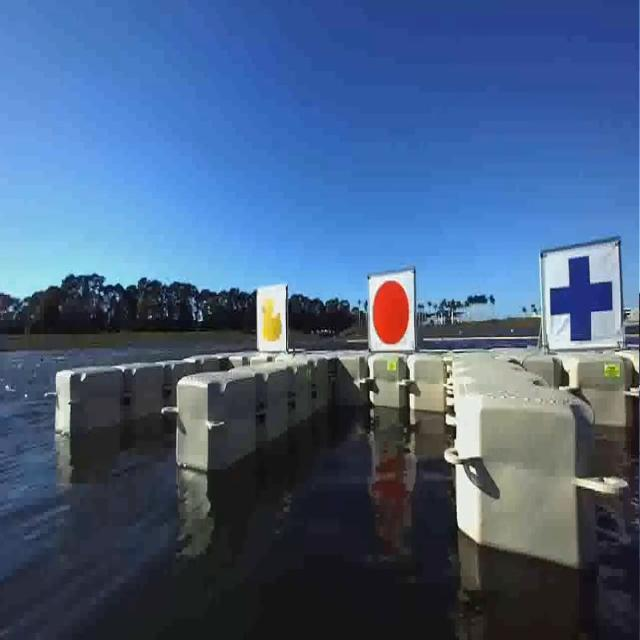blue-cross: (535, 239, 623, 348)
red-dot: (371, 274, 417, 355)
yellow-duck: (257, 284, 288, 357)
